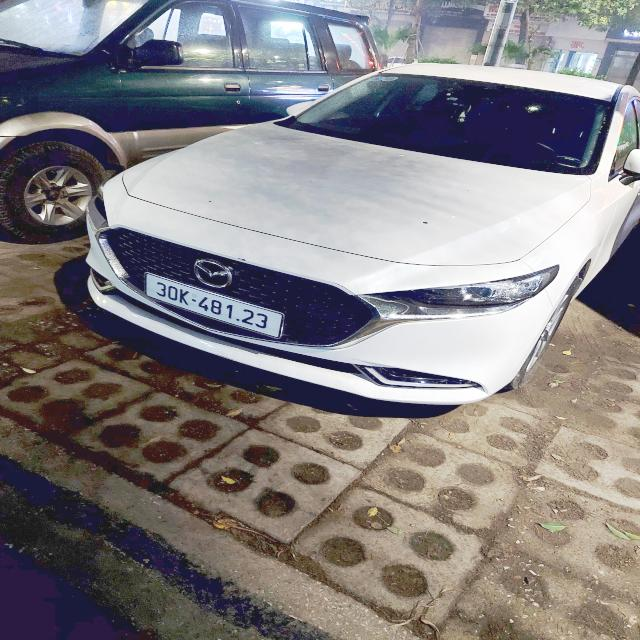license_plate: (140, 269, 292, 345)
